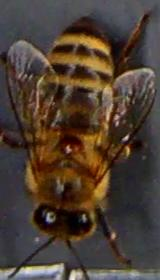varroa_mite: (58, 132, 86, 160)
